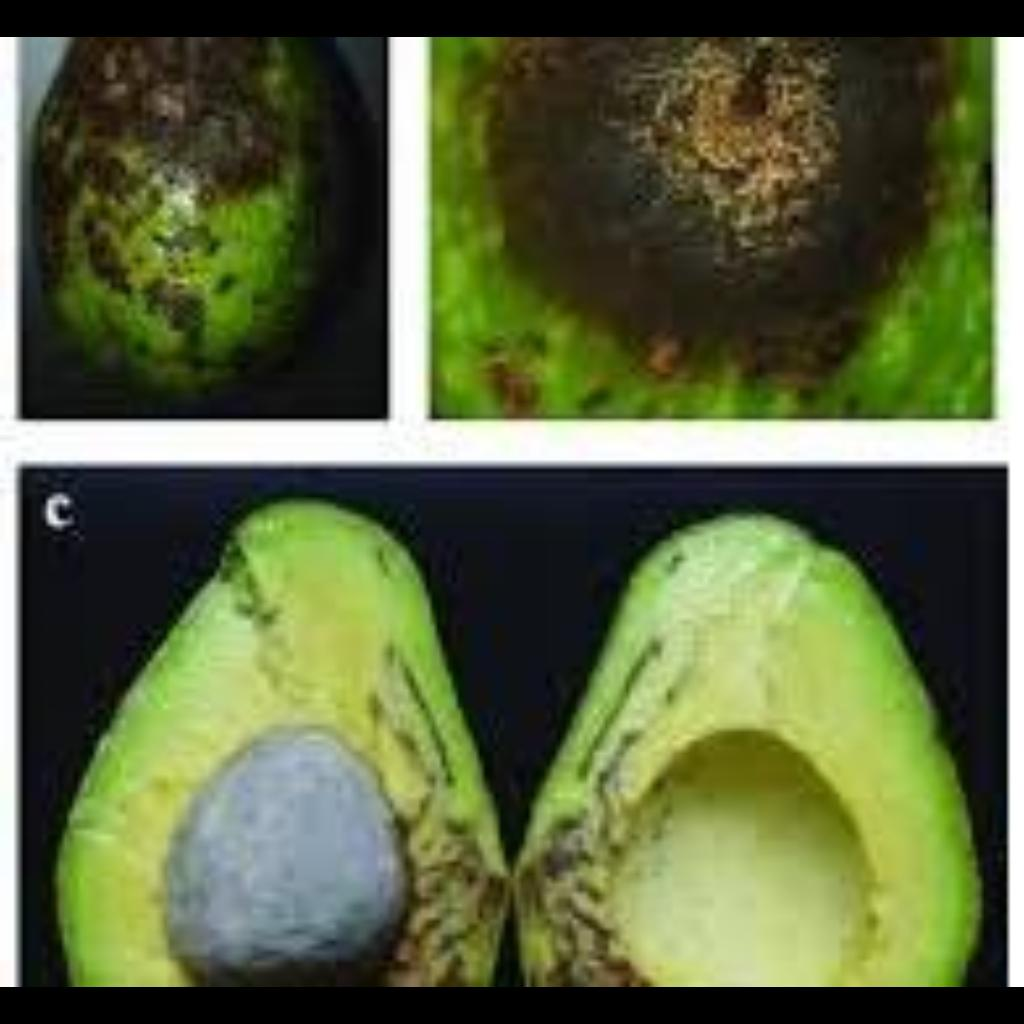Anthracnose: (433, 50, 979, 396), (22, 50, 378, 392), (304, 682, 646, 988)
